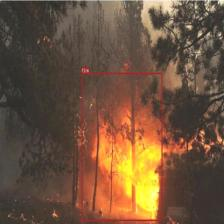fire: (82, 72, 162, 221)
